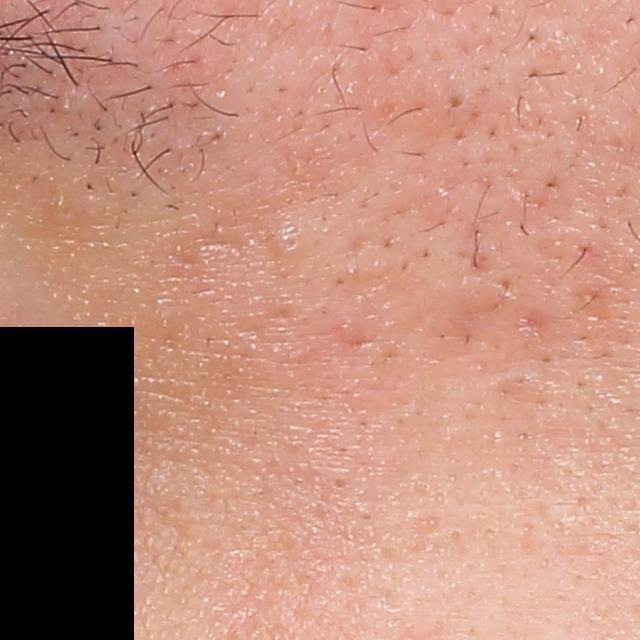comedo: (280, 227, 303, 256), (328, 474, 349, 492), (446, 96, 464, 113)
